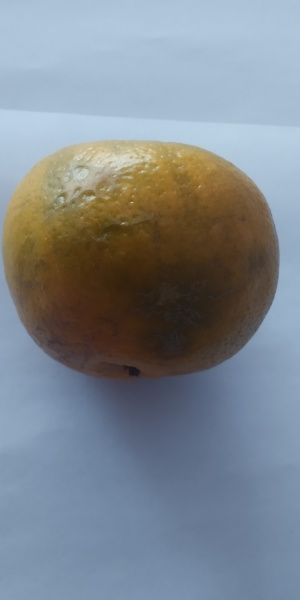BAD: (6, 140, 285, 385)
